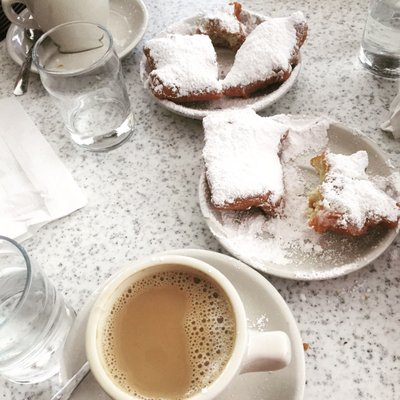pizza: (84, 249, 308, 400), (31, 19, 134, 153), (0, 234, 77, 392), (358, 0, 400, 80)
salad: (50, 360, 91, 400)
